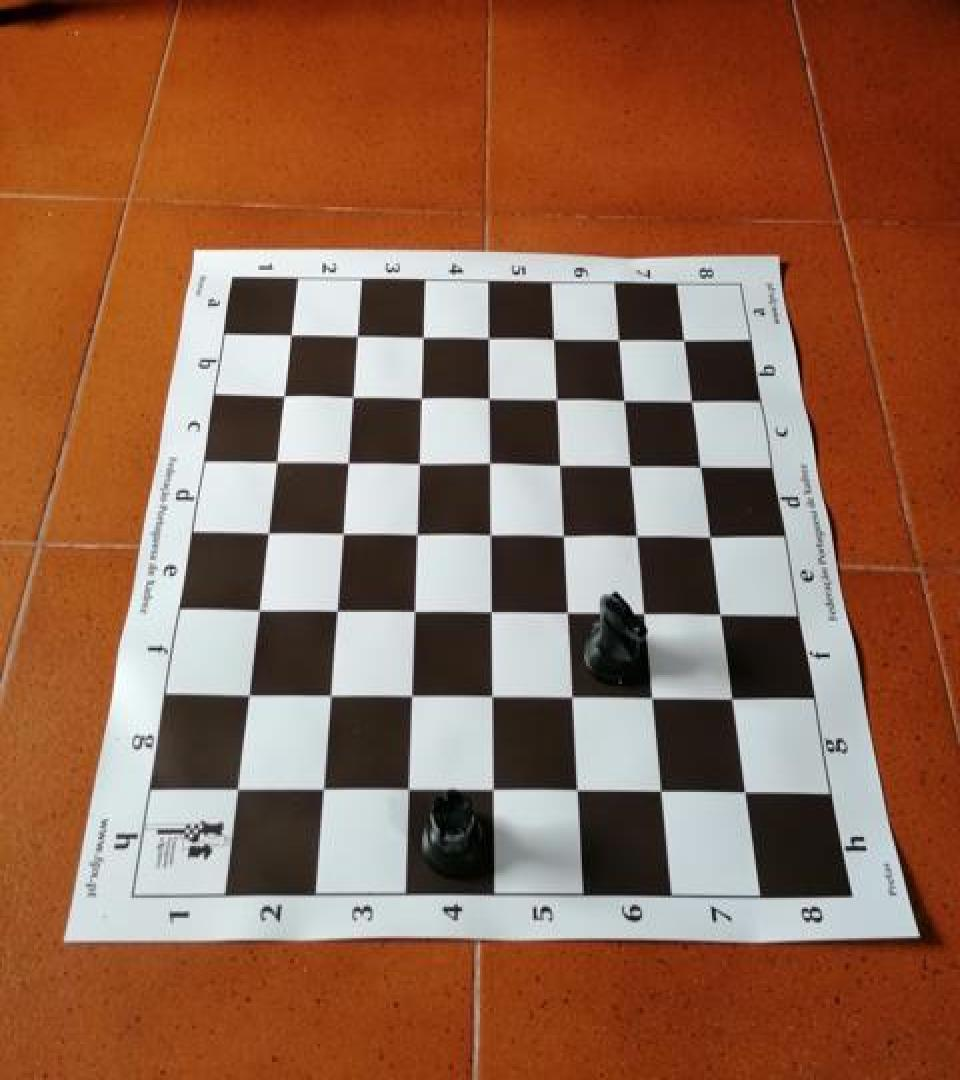xcorner: (666, 323, 696, 357), (600, 323, 630, 357), (535, 323, 565, 357), (470, 323, 500, 357), (404, 323, 434, 357), (339, 323, 369, 357), (273, 323, 303, 357), (674, 382, 704, 416), (606, 382, 636, 416), (538, 382, 568, 416), (470, 384, 500, 418), (402, 384, 432, 418), (334, 384, 364, 418), (266, 384, 296, 418), (694, 518, 724, 552), (620, 518, 650, 552), (546, 518, 576, 552), (472, 518, 502, 552), (398, 518, 428, 552), (323, 518, 353, 552), (249, 518, 279, 552), (705, 595, 735, 629), (627, 595, 657, 629), (550, 596, 580, 630), (472, 596, 502, 630), (395, 596, 425, 630), (317, 596, 347, 630), (240, 596, 270, 630), (717, 680, 747, 714), (730, 773, 760, 807), (645, 773, 675, 807), (559, 773, 589, 807), (474, 774, 504, 808), (389, 774, 419, 808), (303, 774, 333, 808), (218, 774, 248, 808), (684, 448, 714, 481), (613, 448, 643, 481), (542, 448, 572, 481), (471, 448, 501, 481), (400, 448, 430, 481), (329, 448, 359, 481), (258, 448, 288, 481), (635, 681, 665, 714), (554, 681, 584, 714), (473, 681, 503, 714), (392, 681, 422, 714), (311, 681, 341, 714), (229, 681, 259, 714)
